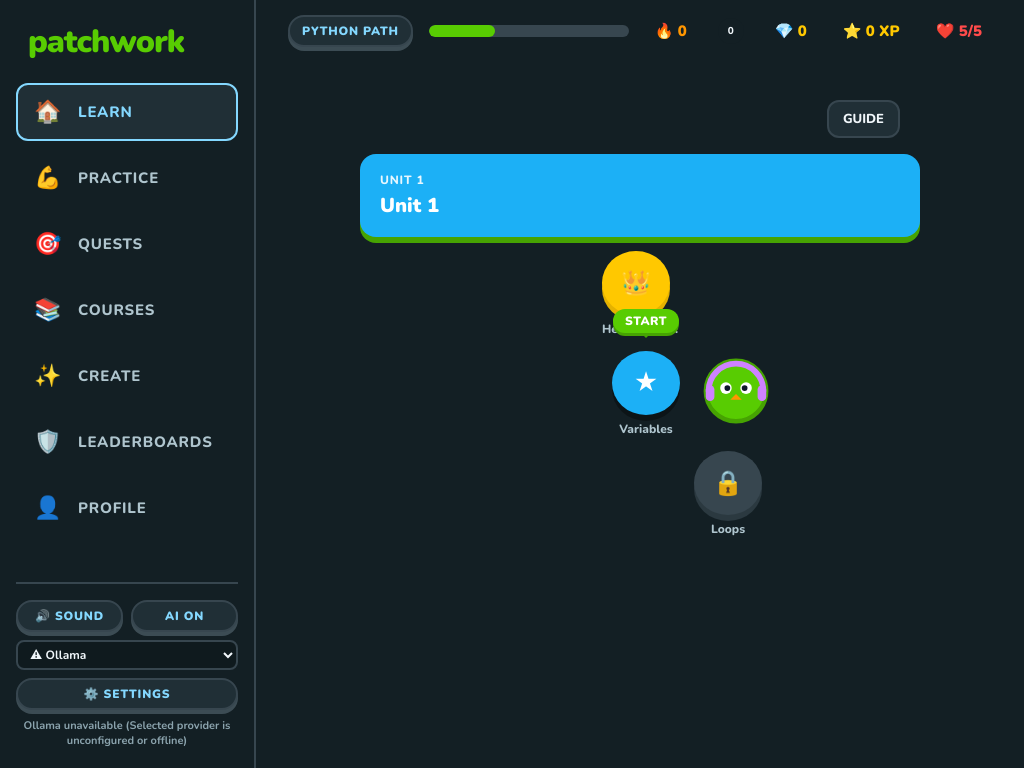
Scenario: State Persistence & Sound Settings › toggles audio feedback button and persists sound preference in localStorage
Expected: the button "Python Path" is shown, left=288, top=15, right=413, bottom=47
Click the button with aria-label "Mute audio feedback" at {"x": 70, "y": 616}, box left=16, top=600, right=123, bottom=632
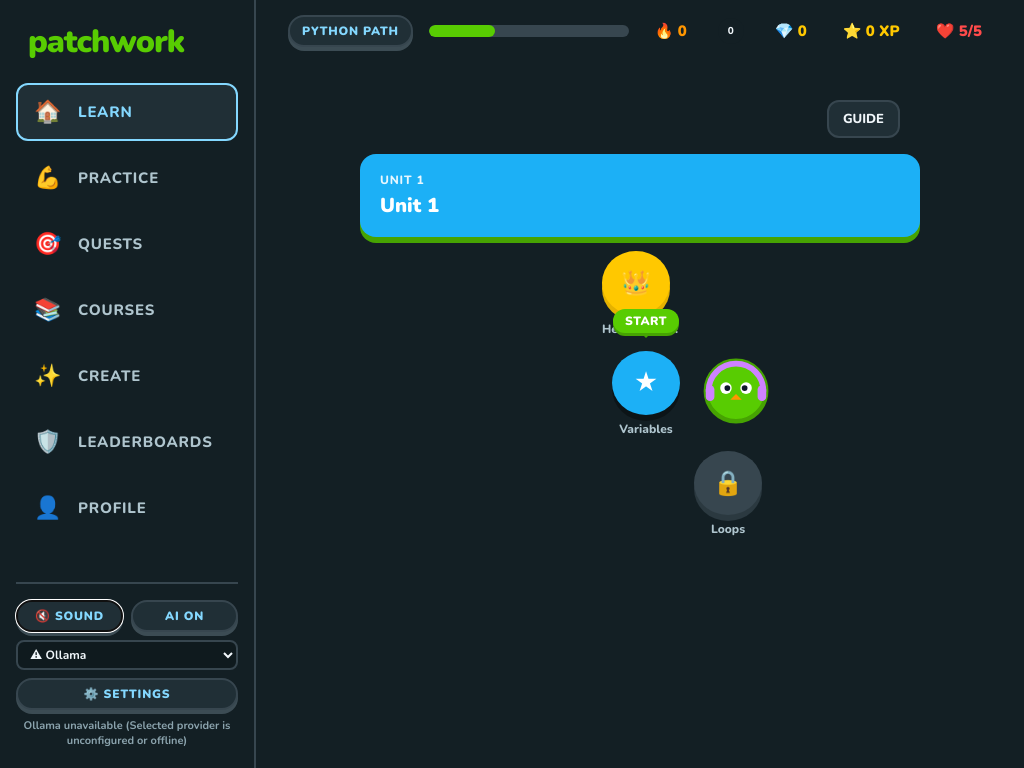
Result: the button with aria-label "Mute audio feedback" reads "🔇 Sound"
Click the button with aria-label "Mute audio feedback" at {"x": 70, "y": 616}, box left=16, top=600, right=123, bottom=632
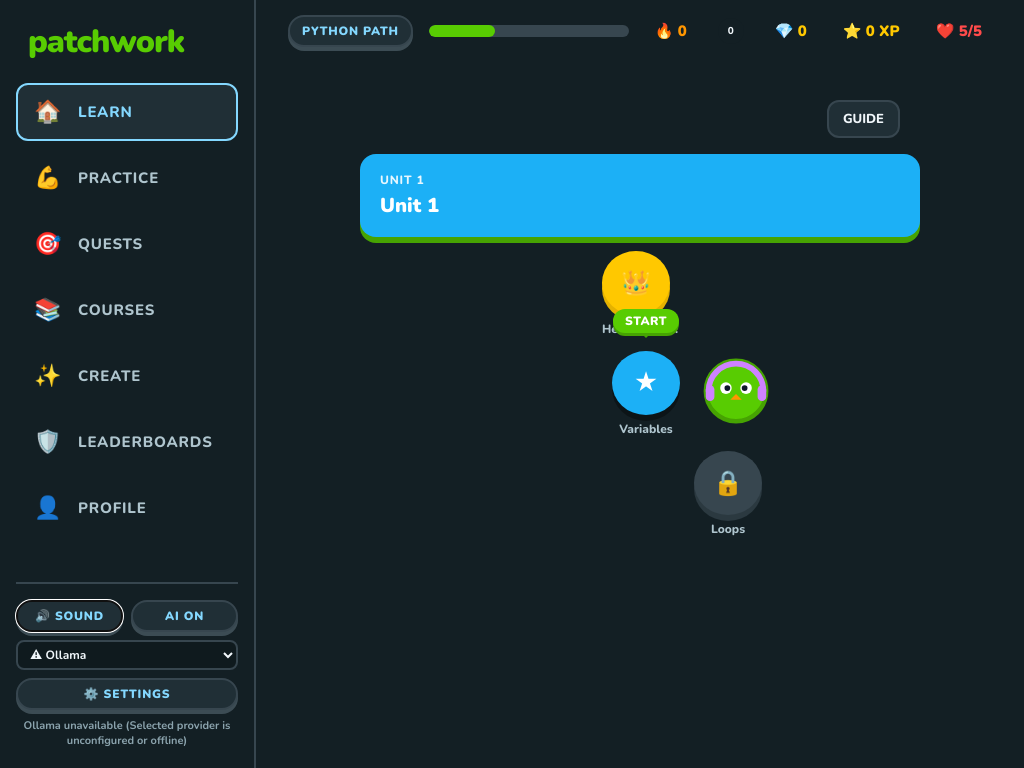
Result: the button with aria-label "Mute audio feedback" reads "🔊 Sound" at left=16, top=600, right=123, bottom=632
